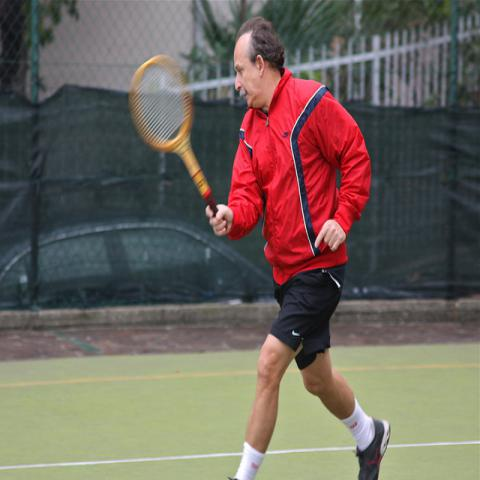car: (0, 218, 277, 312)
